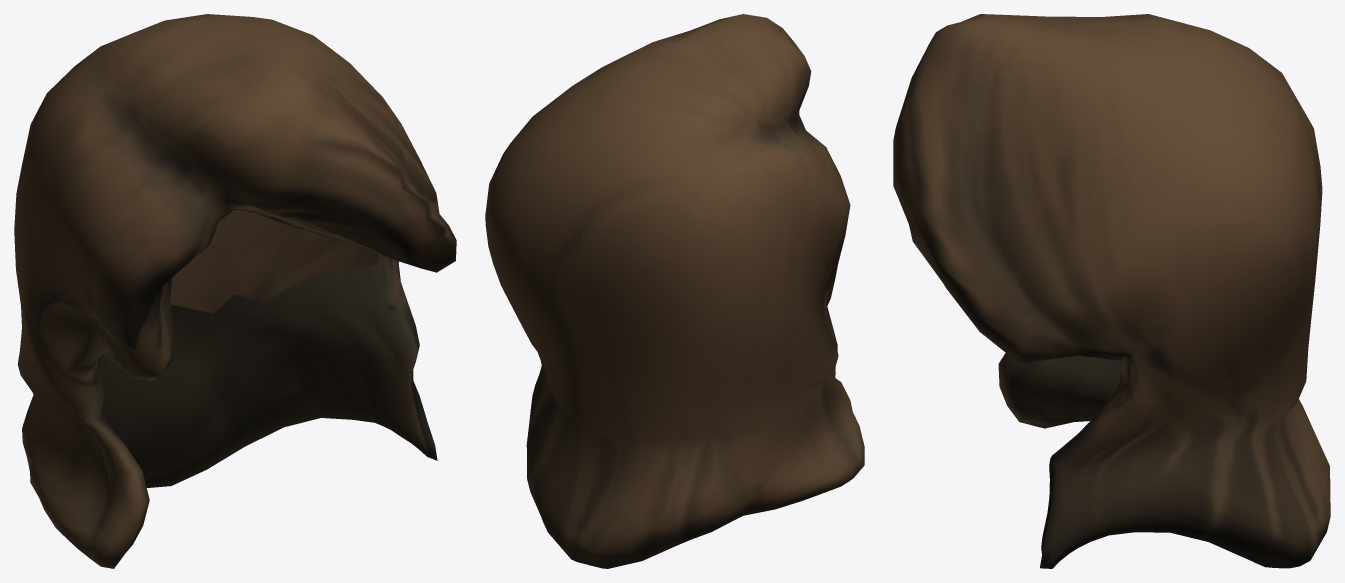
The model's file is Hair_F00 (1).fbx.
The picture shows the model from 3 angles, left to right: view 1: azimuth 30°, elevation 25°; view 2: azimuth 150°, elevation 25°; view 3: azimuth 270°, elevation 25°; orthographic projection. The views are drawn at different scales.
Parts seen in each view (by area): view 1: Hair_F00; view 2: Hair_F00; view 3: Hair_F00.
Part boxes in pixels (bbox=[...]): Hair_F00: bbox=[14, 14, 456, 568]; Hair_F00: bbox=[485, 14, 864, 568]; Hair_F00: bbox=[893, 14, 1330, 568].
Bounding box in the file's own units: 4.58 × 6.12 × 4.57.
